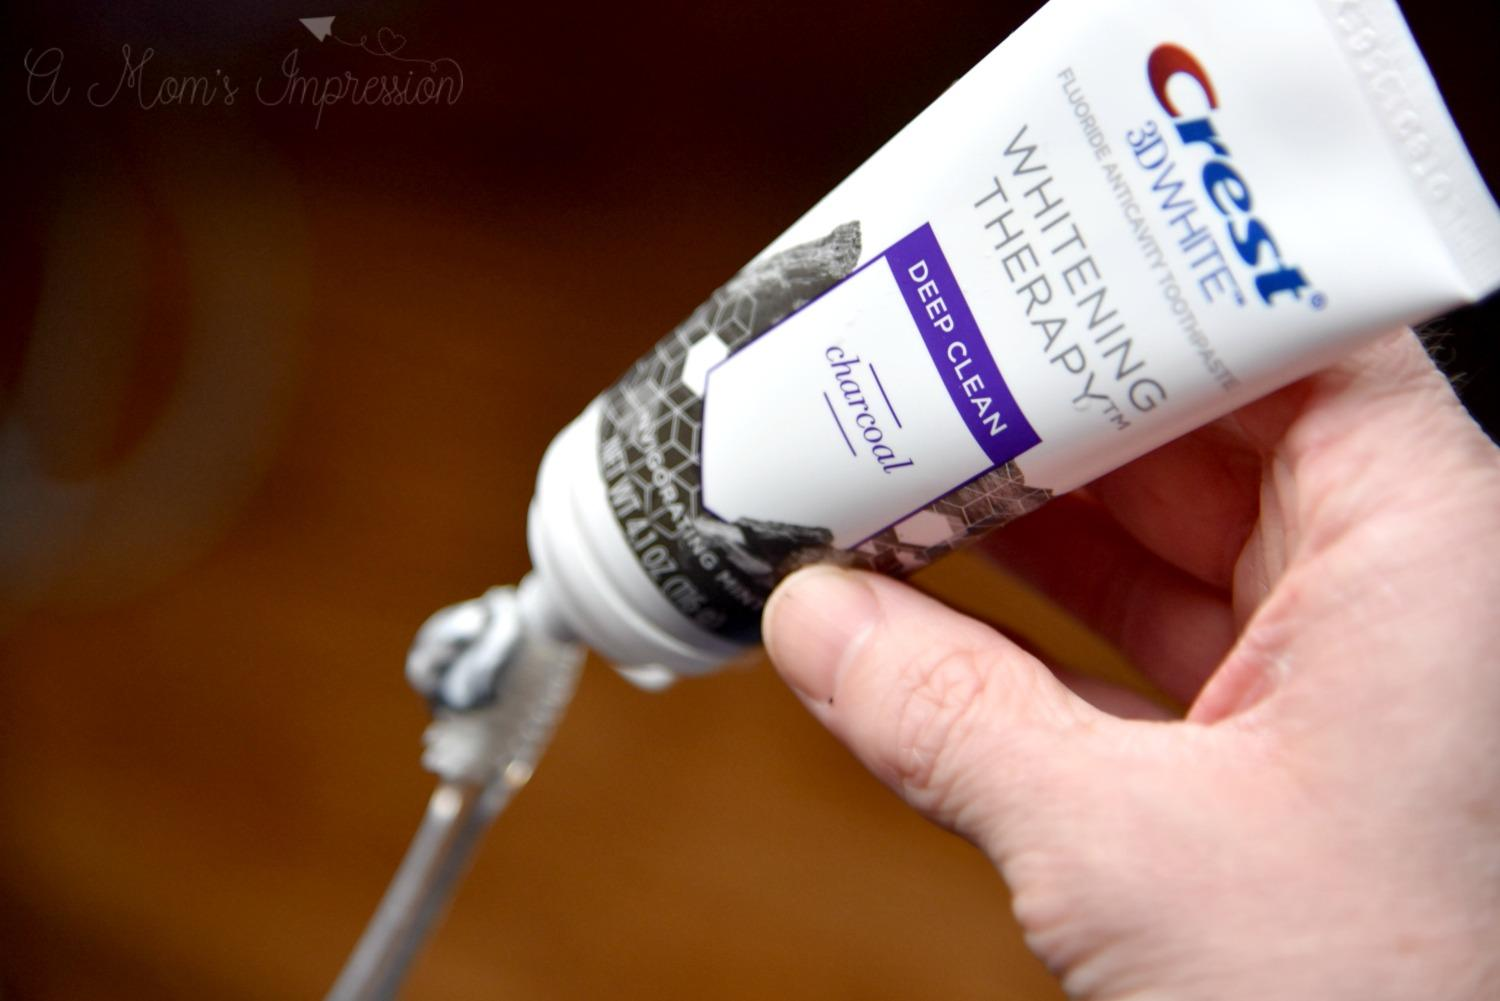toothpaste: (498, 0, 1500, 709)
